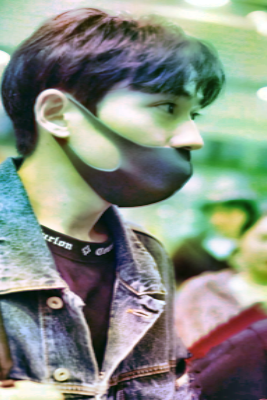mask_weared_incorrect: (65, 97, 203, 207)
